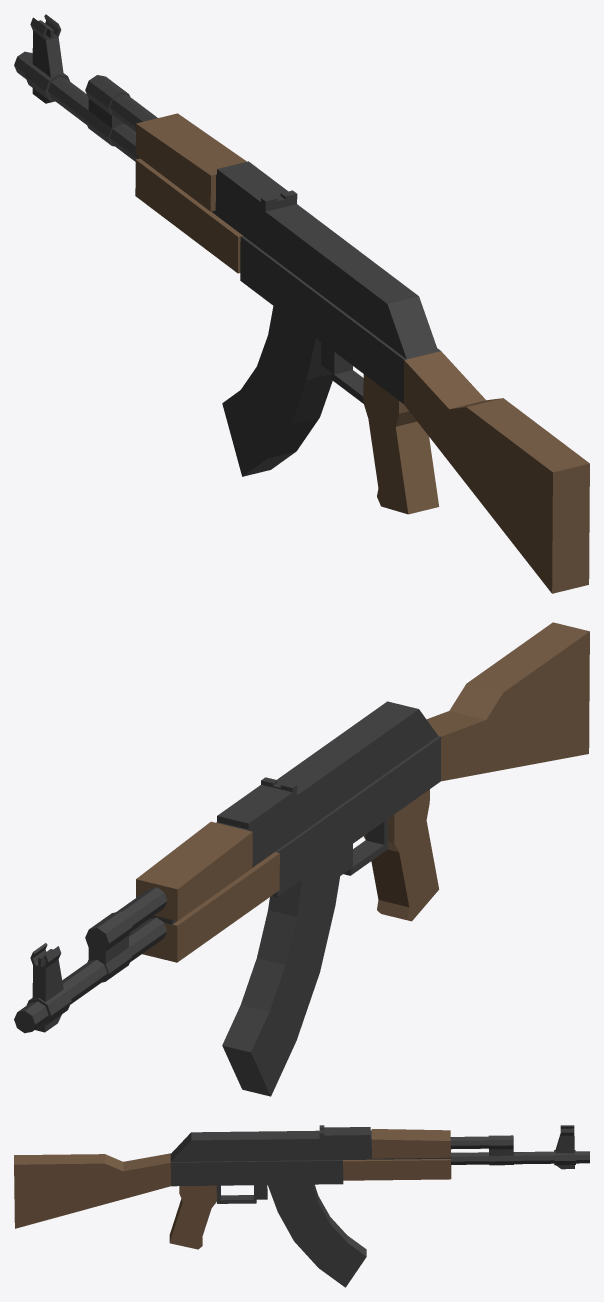
The model's file is akm.fbx.
The picture shows the model from 3 angles, top to bottom: view 1: azimuth 30°, elevation 25°; view 2: azimuth 150°, elevation 25°; view 3: azimuth 270°, elevation 25°; orthographic projection. The views are drawn at different scales.
Visible parts, largest first — view 1: akm; view 2: akm; view 3: akm.
Part boxes in pixels (x1,y1,x2,y2): akm: (14, 14, 589, 593); akm: (14, 622, 589, 1096); akm: (14, 1125, 589, 1287).
Bounding box in the file's own units: 0.0384 × 0.8701 × 0.2622.
